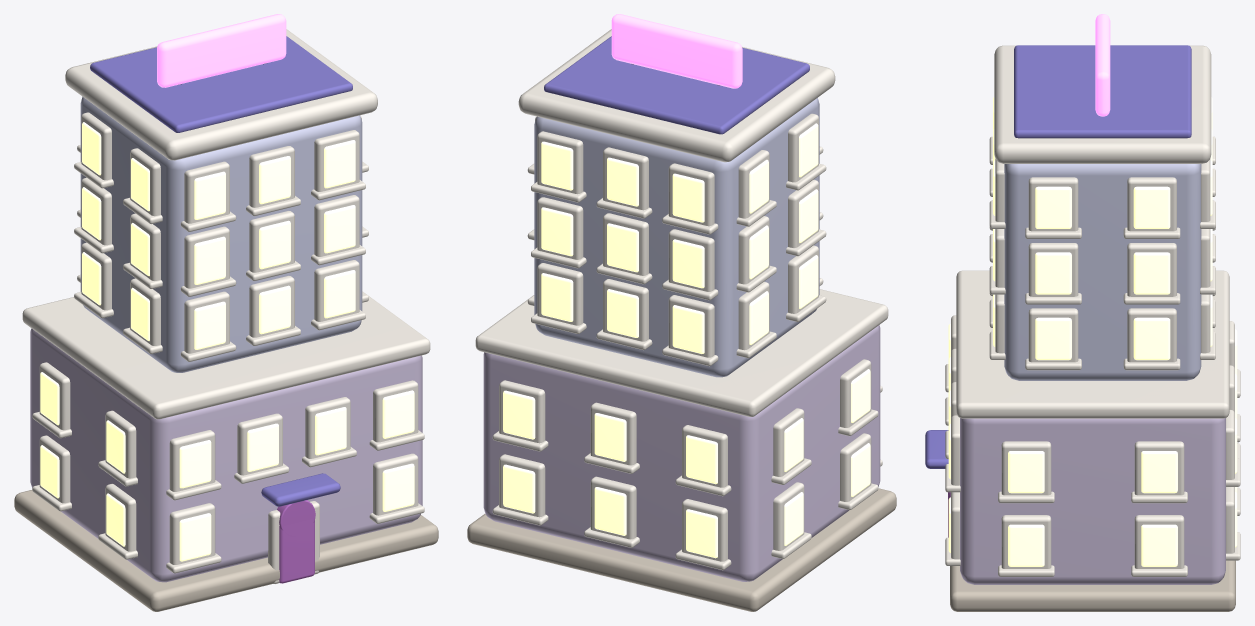
The picture shows the model from 3 angles, left to right: view 1: azimuth 30°, elevation 25°; view 2: azimuth 150°, elevation 25°; view 3: azimuth 270°, elevation 25°; orthographic projection.
Parts seen in each view (by area): view 1: Cube; view 2: Cube; view 3: Cube.
Part boxes in pixels (x1,y1,x2,y2): Cube: (14, 14, 438, 611); Cube: (467, 14, 896, 611); Cube: (925, 14, 1240, 611).
Size of the model in its own units: 0.699 by 1.12 by 0.6395.
